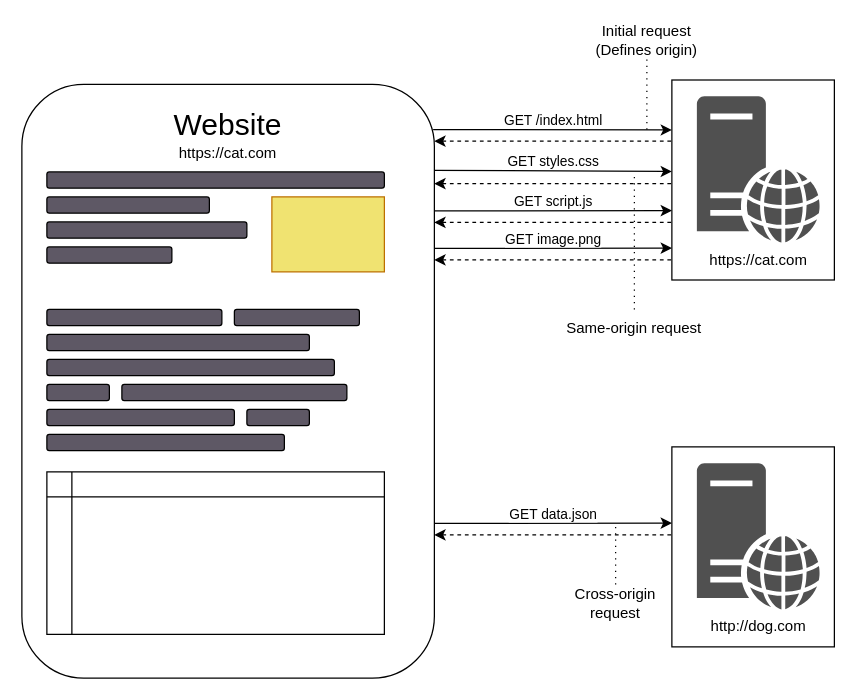
The diagram is 856 pixels wide and 700 high, and some of its shapes have lost their labels. The shapes that lost their labels are listed below. From the top down, each one's centre as x and y in pixels, then its label:
(x=327, y=234): Image
(x=215, y=552): Table (With data from dog.com)
